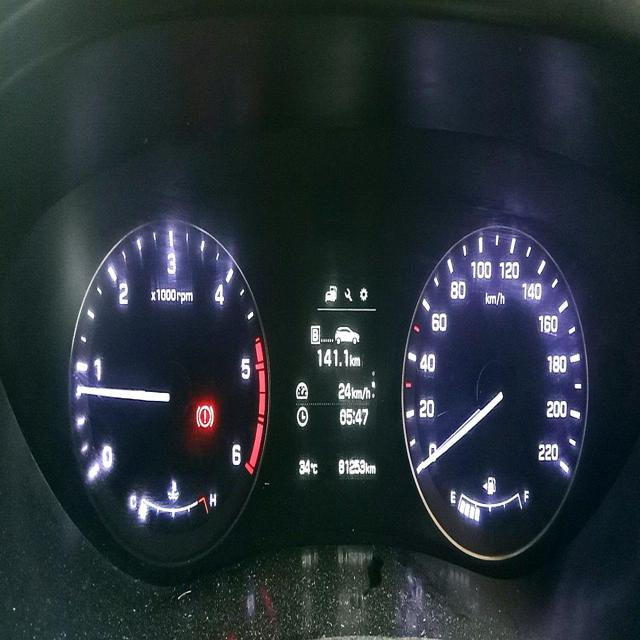odometer: (336, 455, 366, 479)
